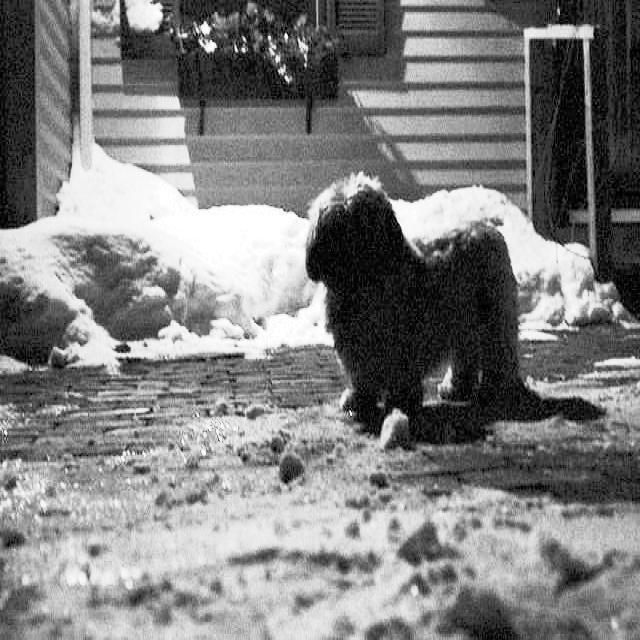Dog: (317, 142, 546, 456)
